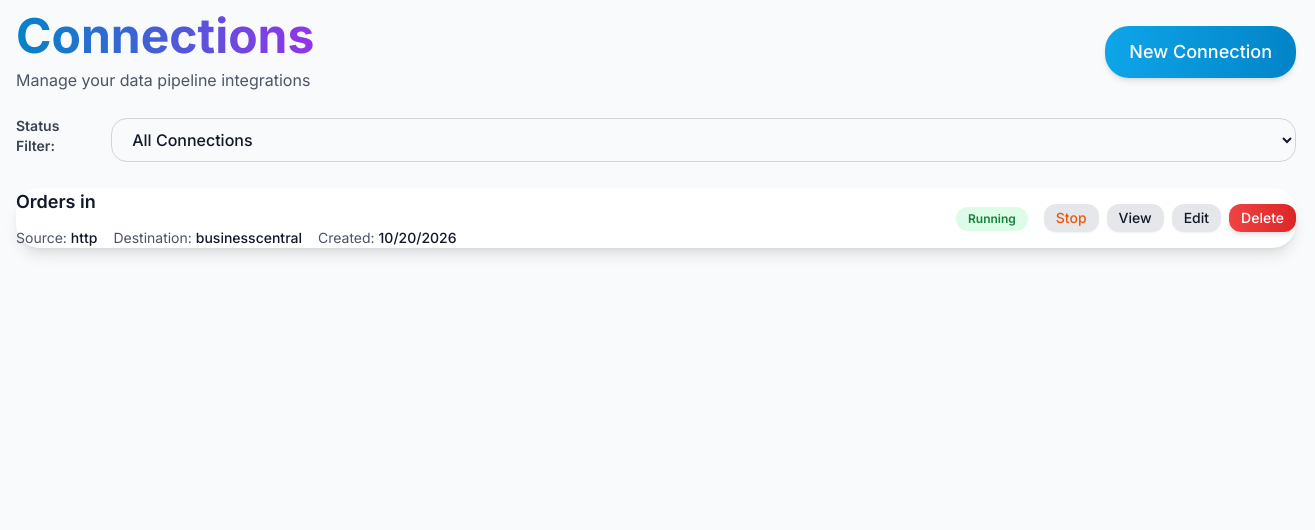
Test: ConnectionsList: status filter › says "No connections yet" when the filter matches nothing
Expected: the heading "Orders in" is shown, [16, 191, 96, 212]
Select "Error" in the dropdown labelled "Status Filter:" at (704, 140), box [111, 118, 1296, 162]
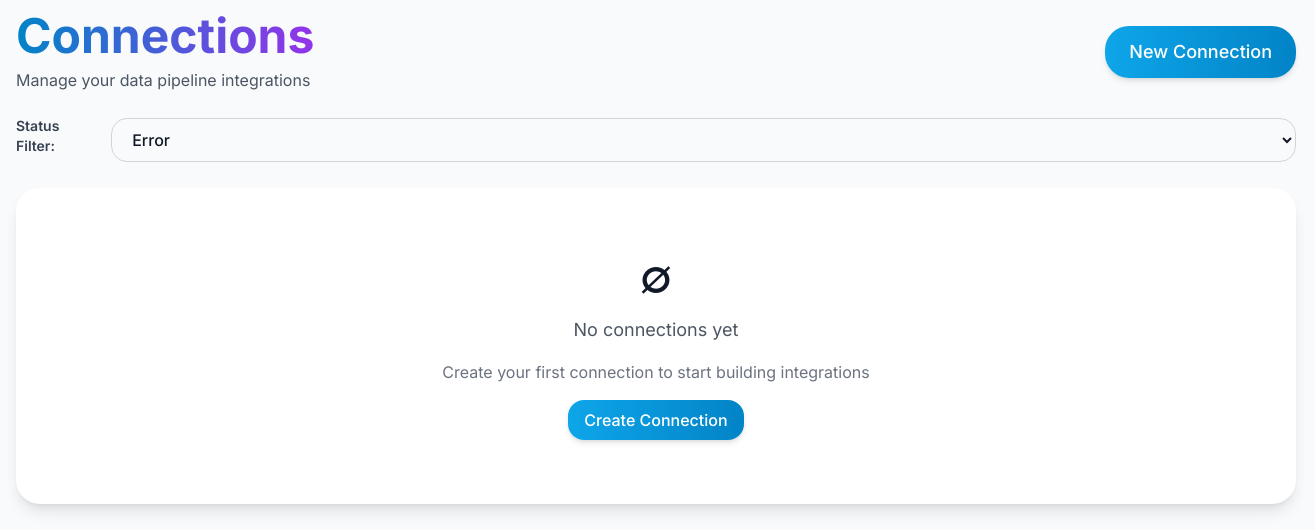
Expected: the text "No connections yet" is shown, [574, 319, 738, 340]
